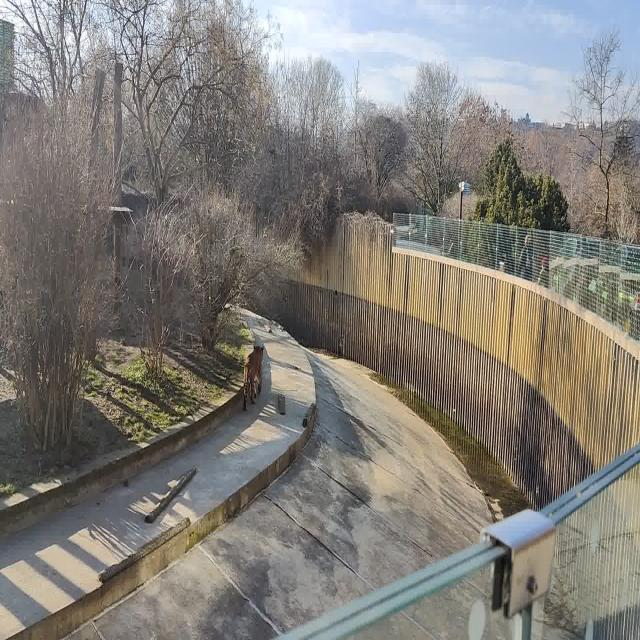tiger: (243, 344, 264, 411)
